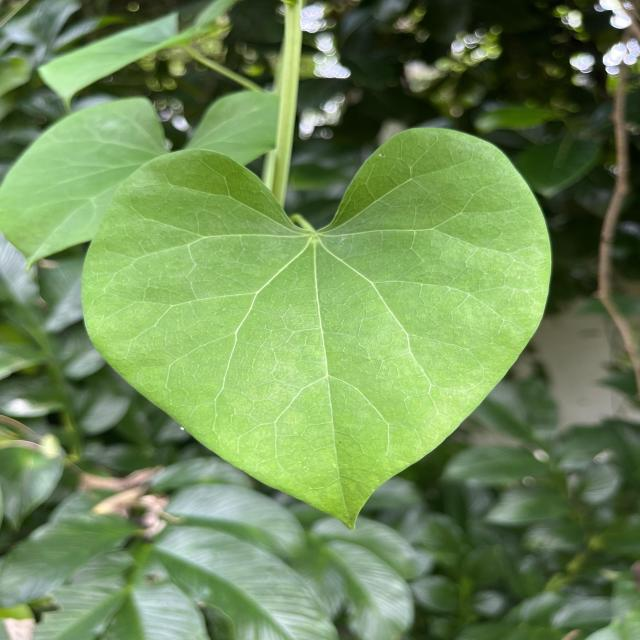Tinospora cordifolia: (72, 120, 560, 536)
